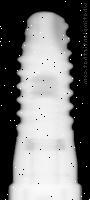MIS: (13, 11, 80, 200)
